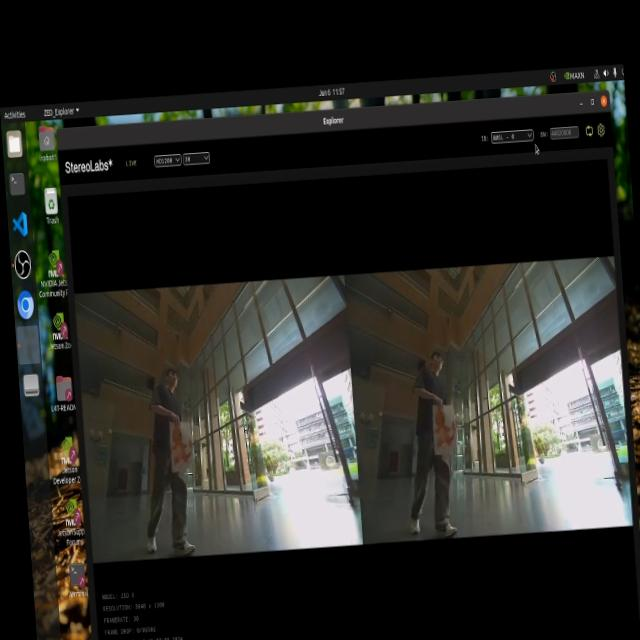red: (164, 424, 199, 466), (434, 405, 454, 448)
